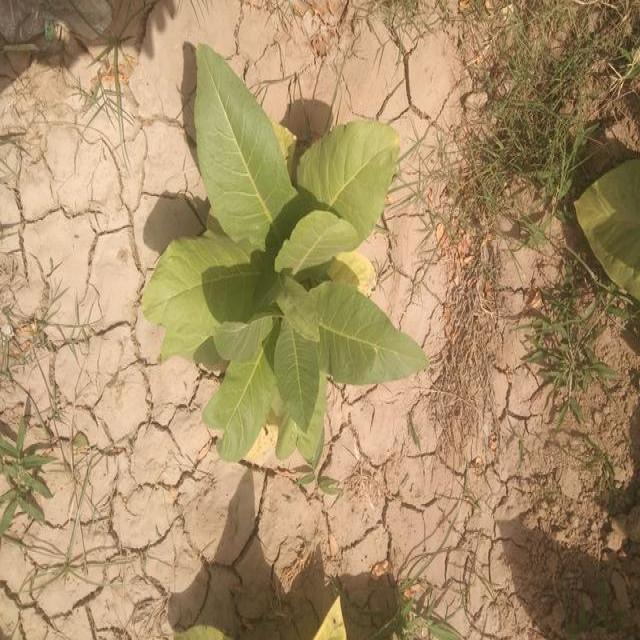crop: (138, 36, 428, 466)
